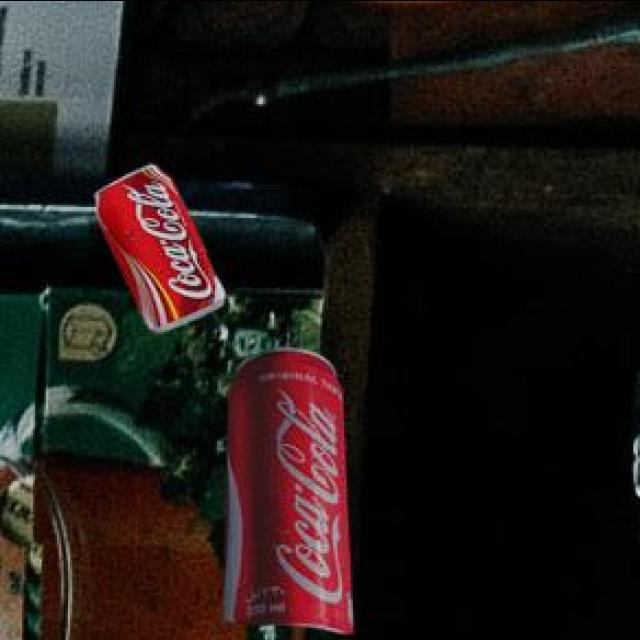logam: (220, 350, 350, 637), (91, 168, 222, 336)
